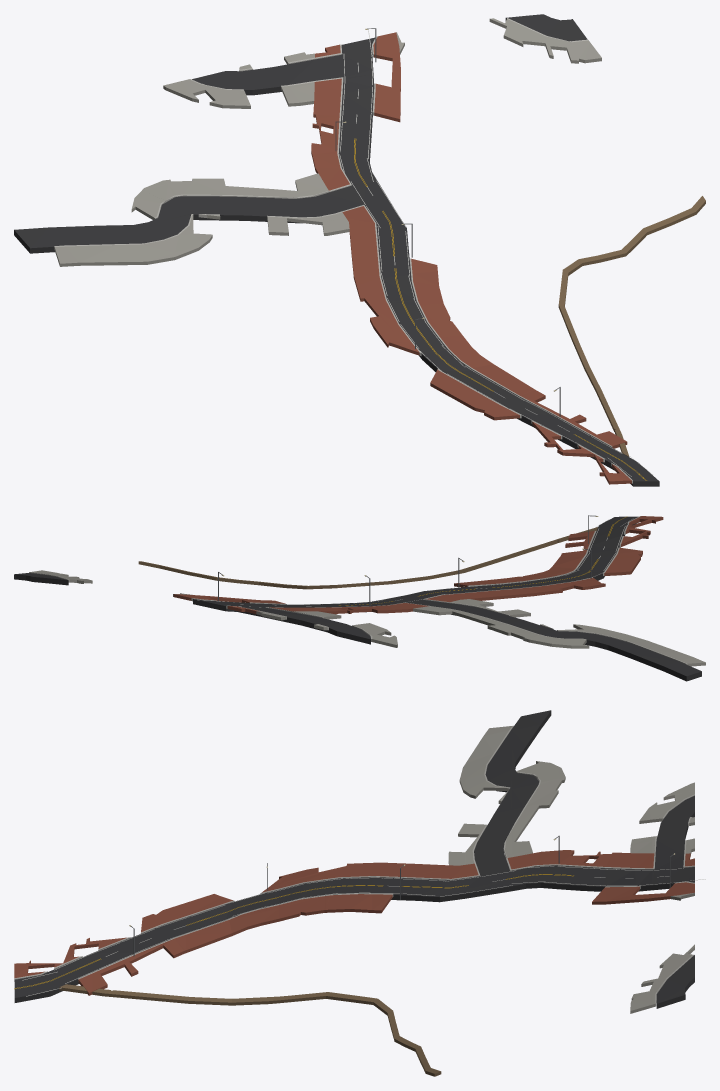
The model's file is 18-218944-118957.1eac6a56.glb.
3 views of the same model, one above another, from view 1: azimuth 30°, elevation 25°; view 2: azimuth 150°, elevation 25°; view 3: azimuth 270°, elevation 25° (orthographic). The views are drawn at different scales.
Size of the model in its own units: 147 by 41.65 by 148.
